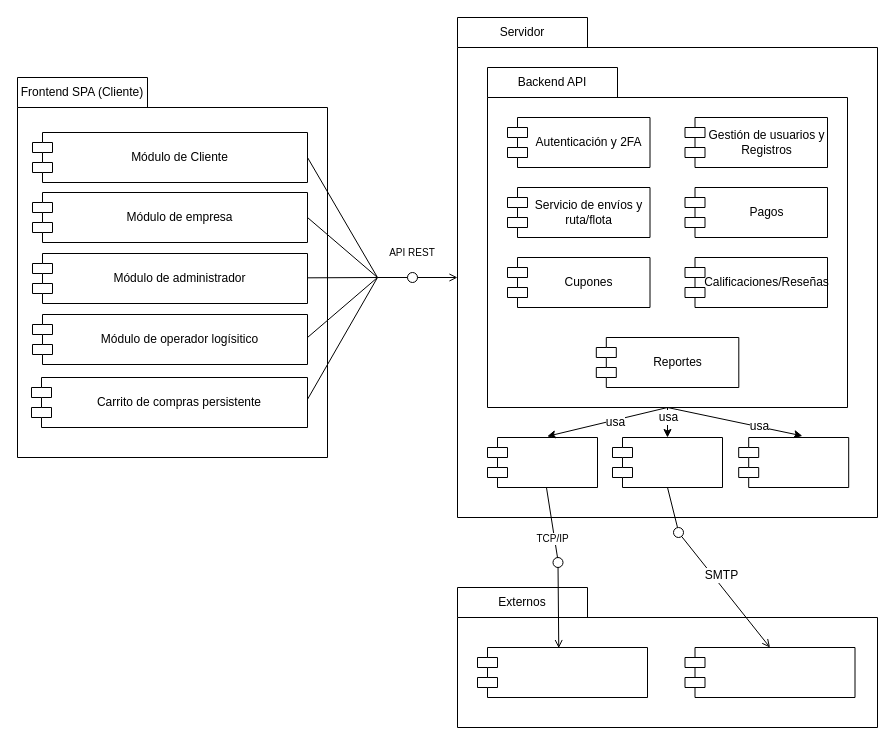
The diagram is 895 pixels wide and 745 high, and some of its shapes have lost their labels. Here are the shapes that lost their labels. From the top down, the box of each, then its label:
(486, 436, 598, 488): Data Access Layer
(612, 436, 722, 488): Gestor de Notificaciones
(738, 436, 849, 488): Gestor de Archivos
(476, 646, 648, 698): Base de Datos
(684, 646, 855, 698): Servicio de Correo
